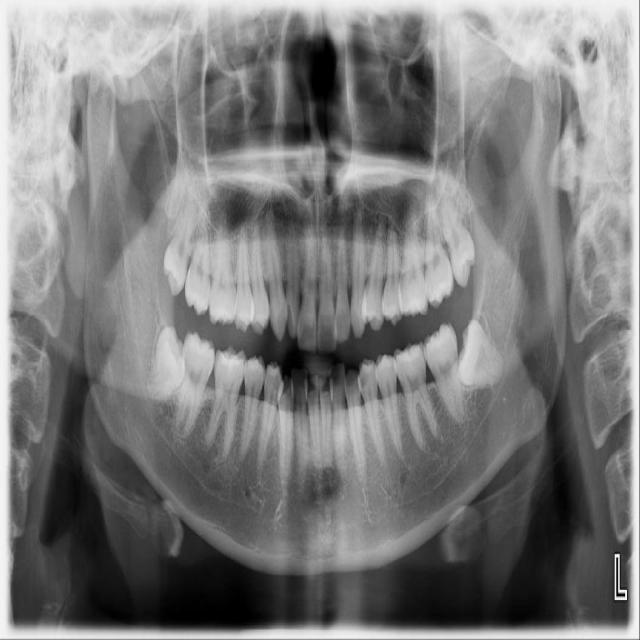impacted tooth: (457, 321, 505, 385), (145, 326, 183, 399)
